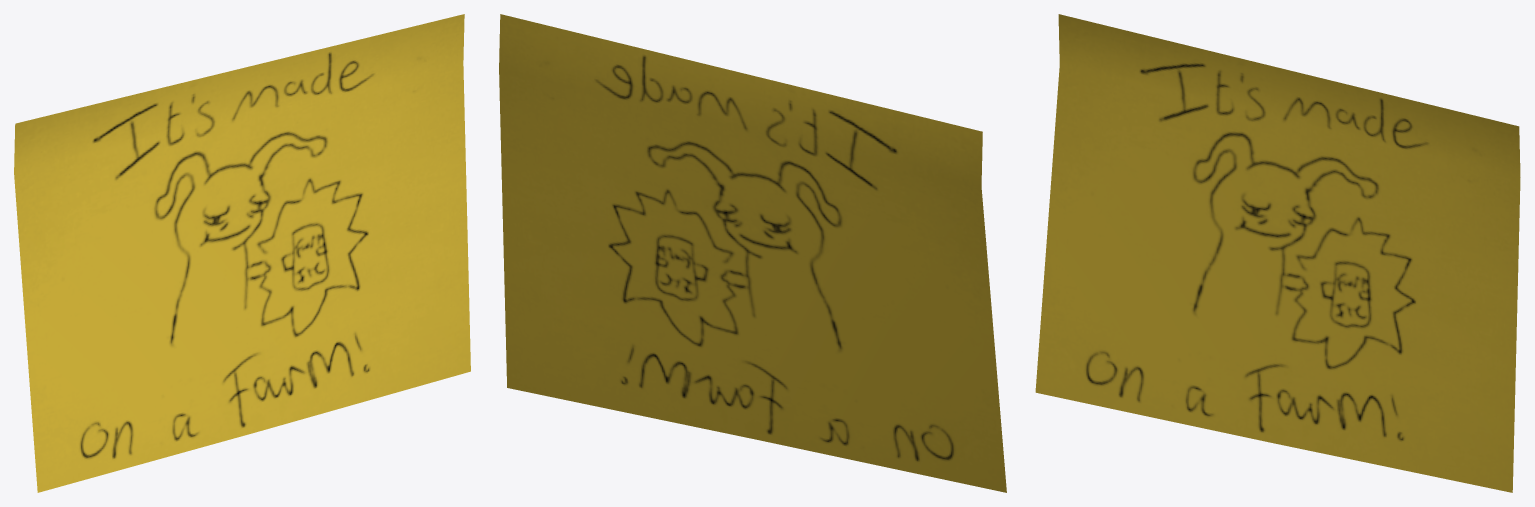
The model's file is Postit2.fbx.
3 views of the same model, side by side, from view 1: azimuth 30°, elevation 25°; view 2: azimuth 150°, elevation 25°; view 3: azimuth 330°, elevation 25° (orthographic). The views are drawn at different scales.
Parts seen in each view (by area): view 1: Postit2; view 2: Postit2; view 3: Postit2.
Part boxes in pixels (x1=…): Postit2: x1=14, y1=14, x2=470, y2=492; Postit2: x1=499, y1=14, x2=1006, y2=492; Postit2: x1=1035, y1=14, x2=1520, y2=492.
Bounding box in the file's own units: 27.44 × 20.59 × 2.5.
